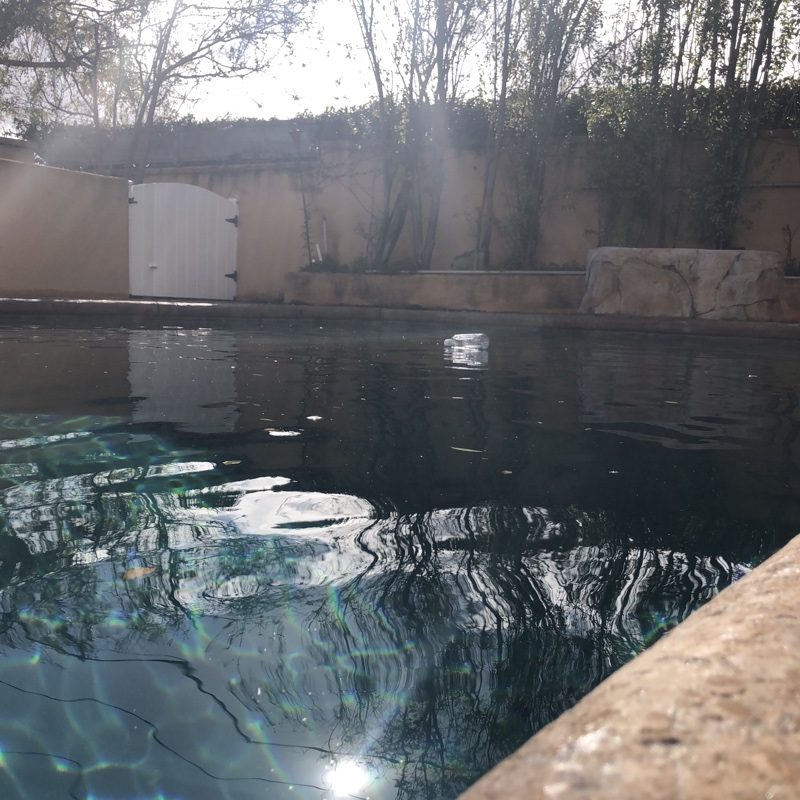Plastic Bottle: (445, 333, 489, 350)
